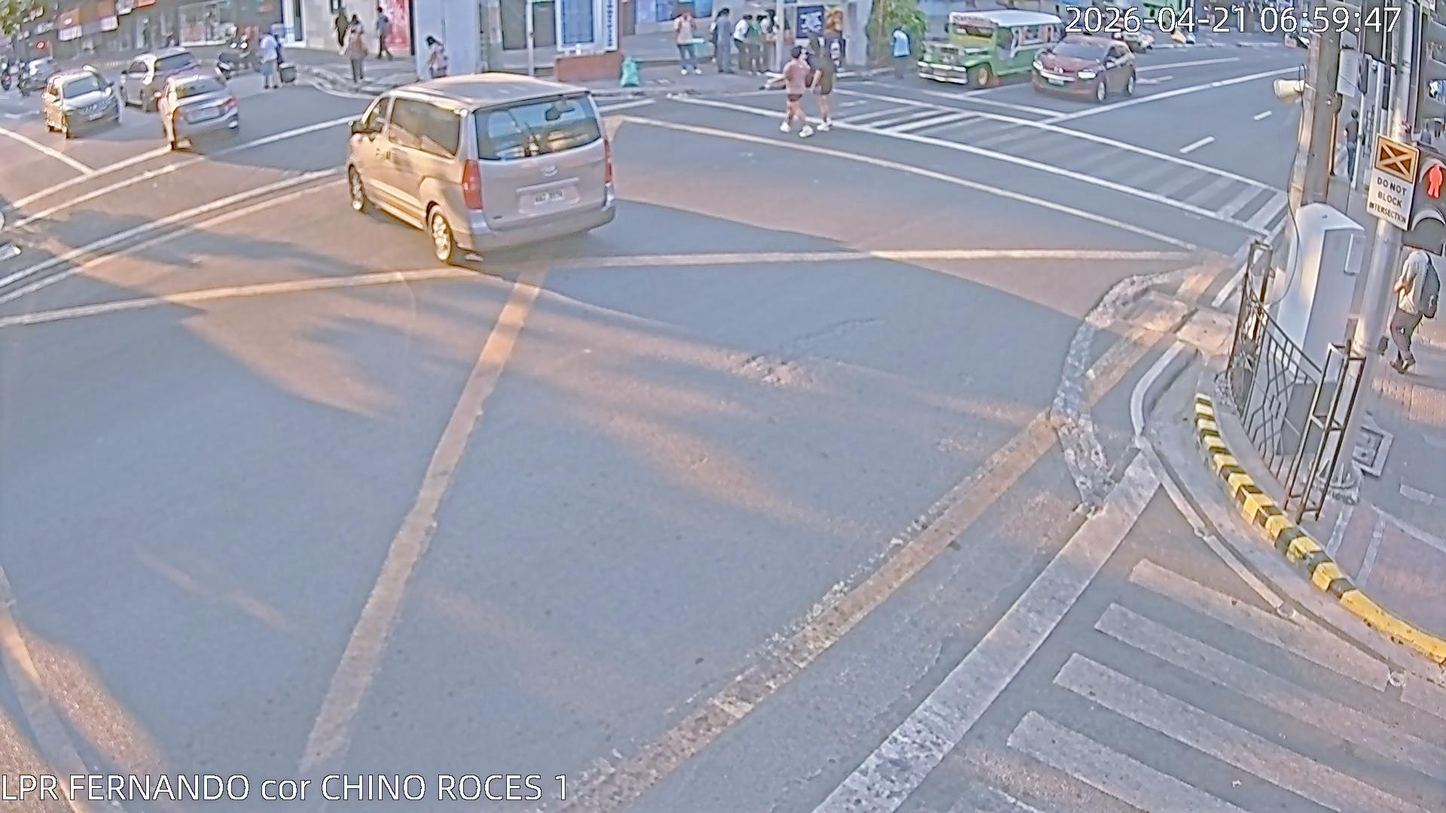Car: (349, 70, 622, 265), (1030, 35, 1134, 101), (154, 72, 239, 149), (40, 67, 120, 139), (120, 47, 206, 111), (27, 52, 61, 90)
Motor: (216, 38, 264, 78), (16, 73, 33, 98), (1, 74, 12, 92)
